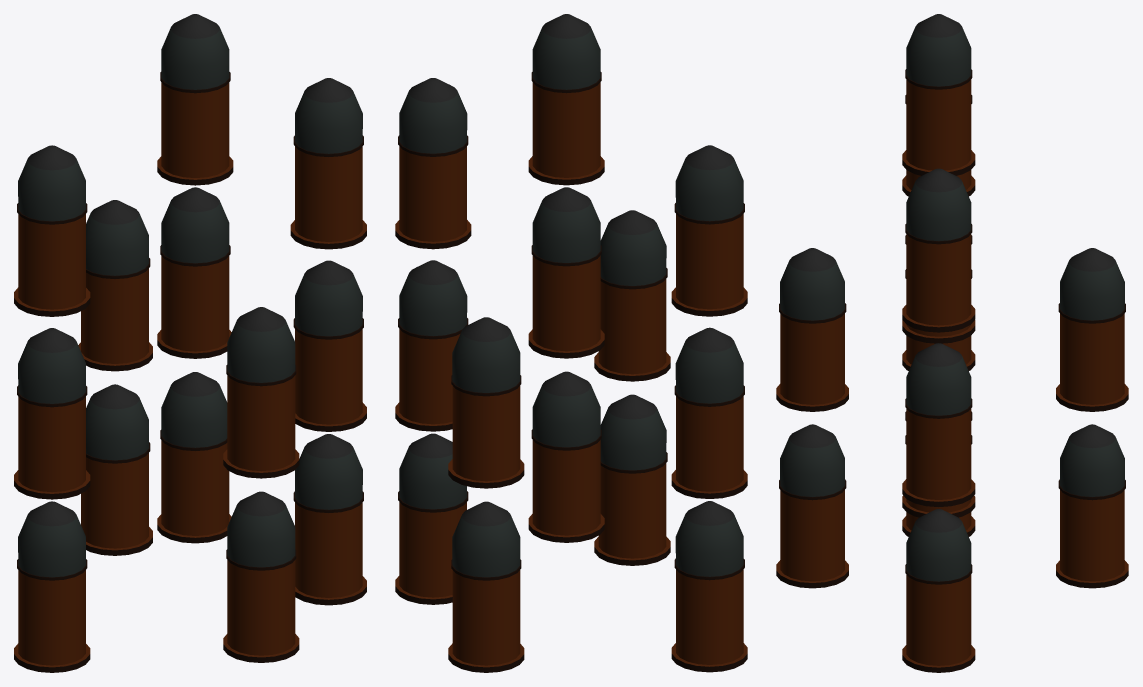
File: Ammo_Rifle.fbx
The picture shows the model from 3 angles, left to right: view 1: azimuth 30°, elevation 25°; view 2: azimuth 150°, elevation 25°; view 3: azimuth 270°, elevation 25°; orthographic projection. The views are drawn at different scales.
Visible parts, largest first — view 1: Cylinder001; view 2: Cylinder001; view 3: Cylinder001.
Boxes of the visible parts, <box> form: Cylinder001: <box>14,14,366,672</box>; Cylinder001: <box>395,14,747,672</box>; Cylinder001: <box>776,14,1128,672</box>.
Size of the model in its own units: 180 by 303 by 167.
